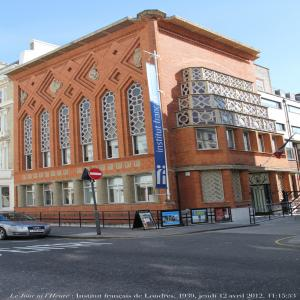Vehicle-registration-plate: (30, 230, 44, 233)
